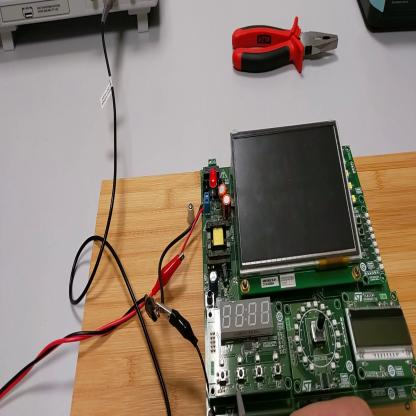hand: (290, 396, 374, 415)
low voltage board: (159, 121, 416, 416)
oscilloscope: (1, 1, 160, 51)
pliers: (232, 14, 340, 76)
welder station: (358, 1, 416, 33)
working area: (71, 154, 416, 415)
